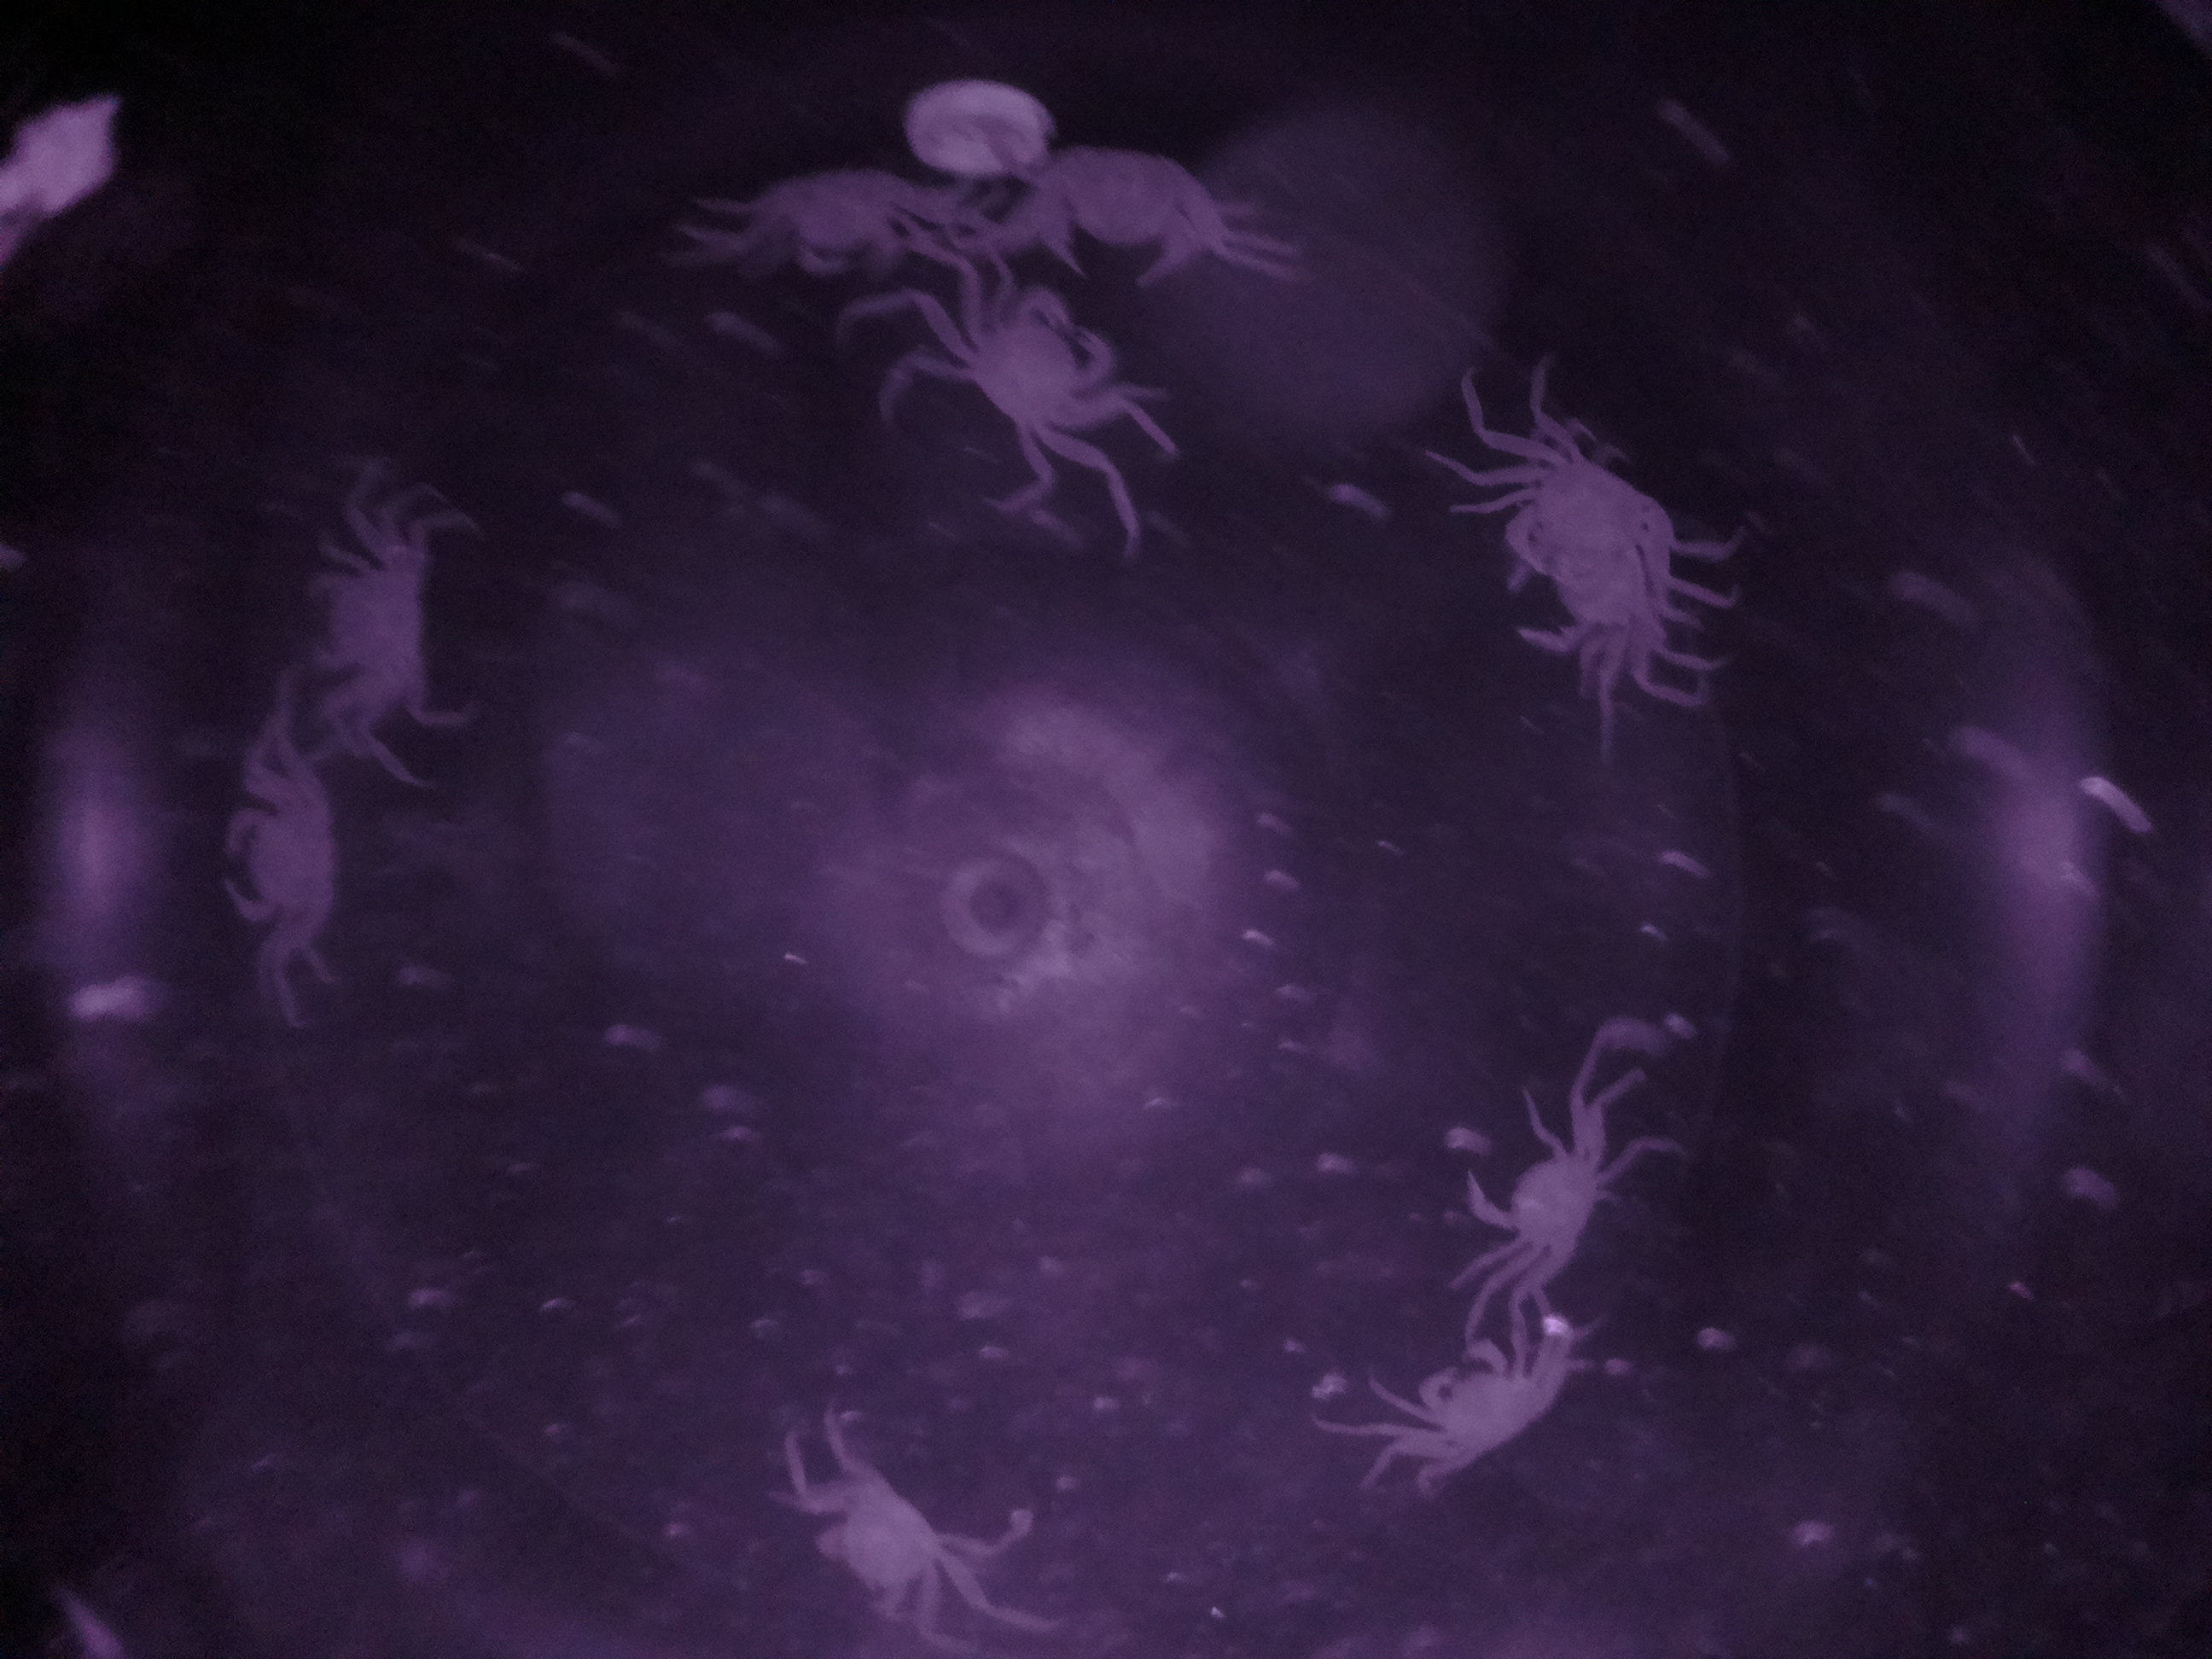Crab: (932, 267, 1148, 479), (780, 1445, 991, 1638), (1442, 1087, 1623, 1284), (190, 767, 392, 938), (1388, 1319, 1561, 1483)
